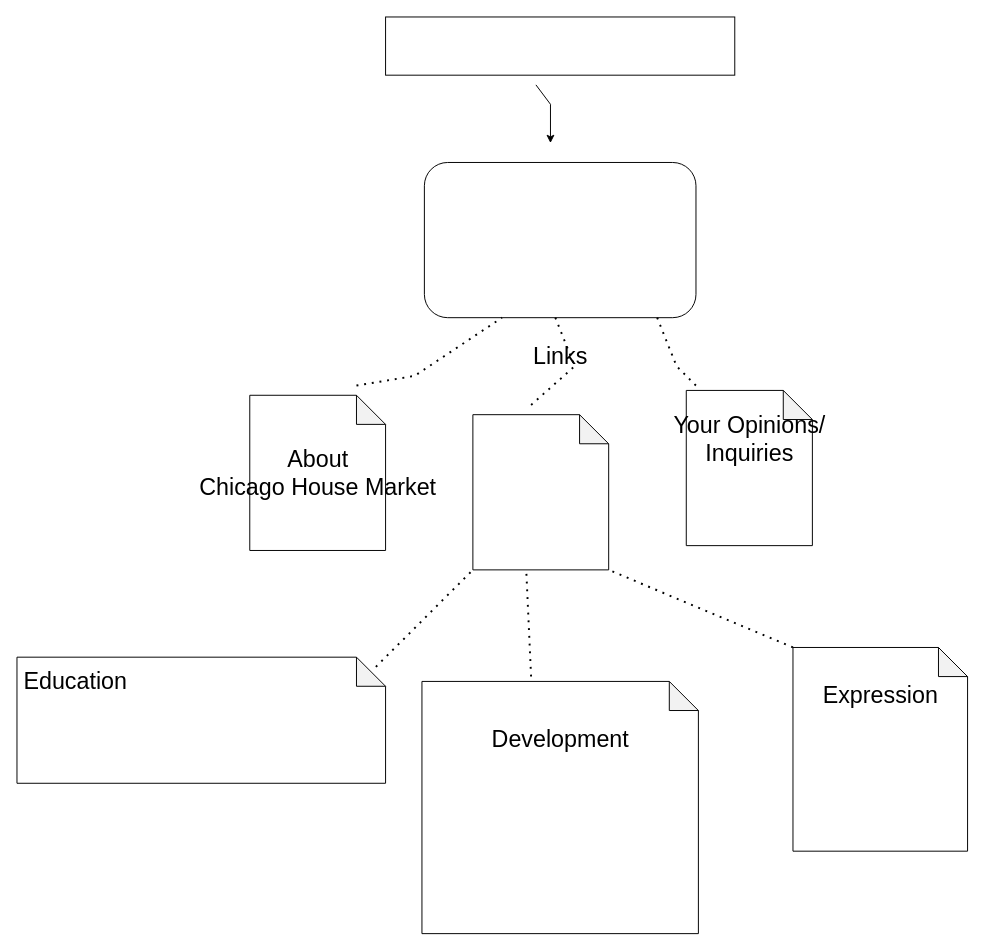
Some shapes in this 985 by 951 pixel diagram are drawn without their labels. Each missing label, with the centre of its shape:
"A Chicago House Market" goes at [559,240].
"Information Station" goes at [540,492].
"USER INTERFACE" goes at [560,45].
